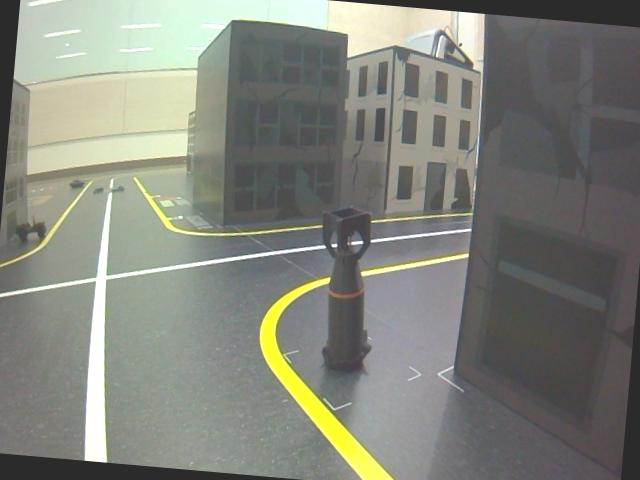Car: (14, 210, 48, 246)
Missile: (302, 201, 389, 380)
Tank: (69, 174, 87, 190)
